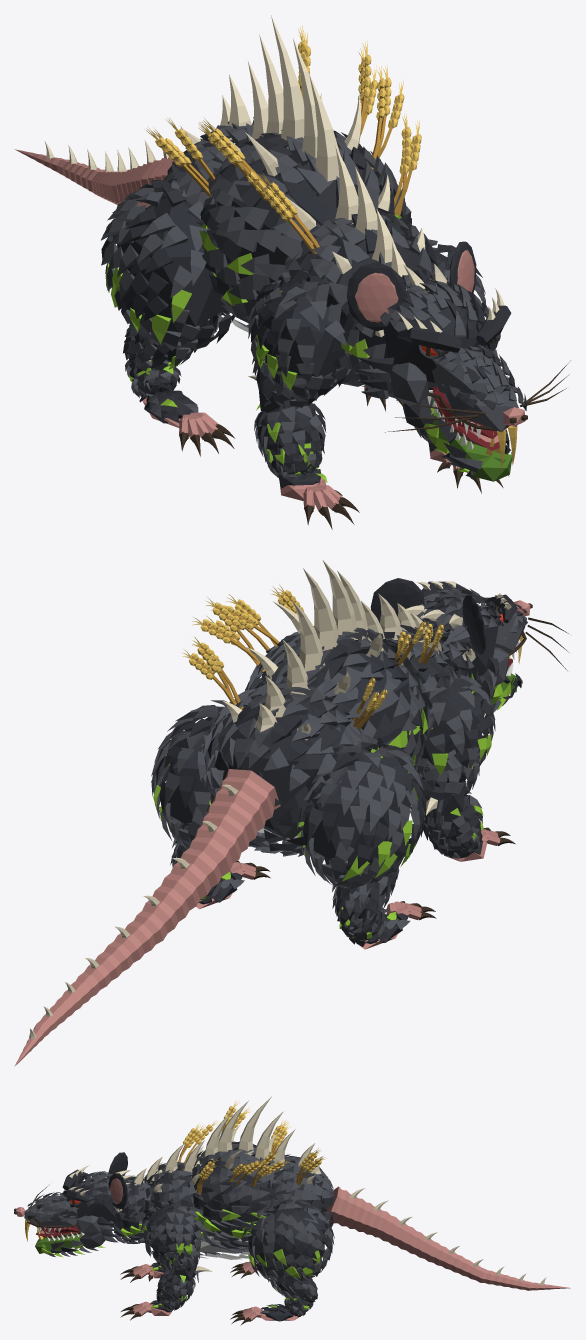
The model's file is Gardien_Champ_Rat.glb.
3 views of the same model, one above another, from view 1: azimuth 30°, elevation 25°; view 2: azimuth 150°, elevation 25°; view 3: azimuth 270°, elevation 25° (orthographic). The views are drawn at different scales.
Parts seen in each view (by area): view 1: Corps, Tete, Patte_ArD, Patte_AvD, Ble, Machoire, Queue, Patte_AvG; view 2: Corps, Patte_ArD, Queue, Patte_AvD, Tete, Patte_ArG, Ble, Machoire; view 3: Corps, Patte_ArG, Tete, Patte_AvG, Queue, Ble, Machoire, Patte_AvD.
Boxes of the visible parts, x1,y1,x2,y2 form: Corps: (161, 15, 447, 400); Tete: (346, 241, 570, 469); Patte_ArD: (101, 180, 235, 456); Patte_AvD: (247, 270, 359, 529); Ble: (146, 25, 421, 253); Machoire: (403, 397, 512, 481); Queue: (15, 126, 195, 207); Patte_AvG: (402, 239, 509, 493); Corps: (200, 560, 479, 856); Patte_ArD: (297, 735, 436, 949); Queue: (14, 769, 280, 1066); Patte_AvD: (408, 670, 515, 861); Tete: (370, 578, 569, 705); Patte_ArG: (151, 700, 270, 909); Ble: (182, 584, 443, 729); Machoire: (475, 656, 522, 714); Corps: (108, 1096, 334, 1259); Patte_ArG: (230, 1199, 334, 1325); Tete: (14, 1152, 134, 1243); Patte_AvG: (120, 1200, 212, 1320); Queue: (326, 1186, 570, 1290); Ble: (178, 1100, 326, 1193); Machoire: (35, 1227, 105, 1257); Patte_AvD: (120, 1170, 166, 1282).
Size of the model in its own units: 10.12 by 13.4 by 33.8.
Materials: 1 (1 with a texture image).
